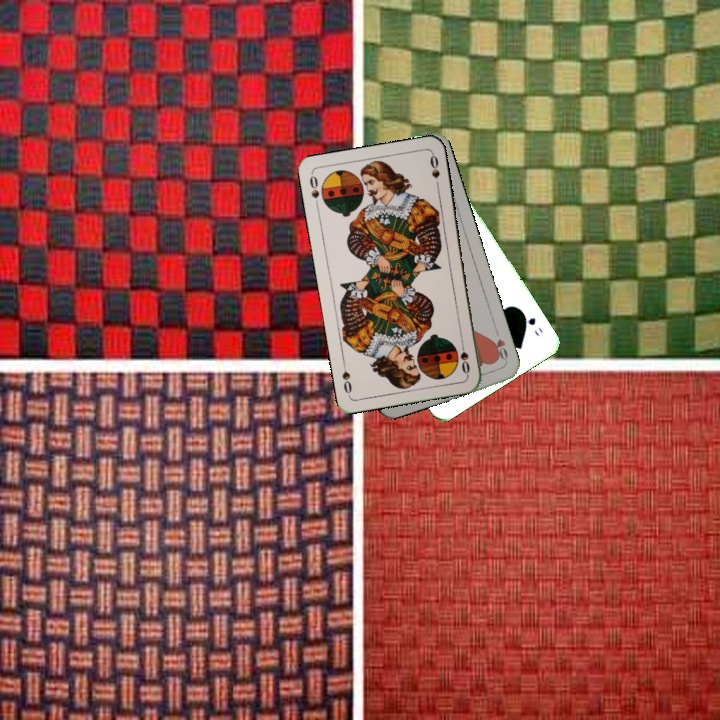GO: (518, 307, 545, 339)
HO: (487, 326, 510, 365)
SO: (305, 171, 322, 211), (456, 337, 472, 377)
